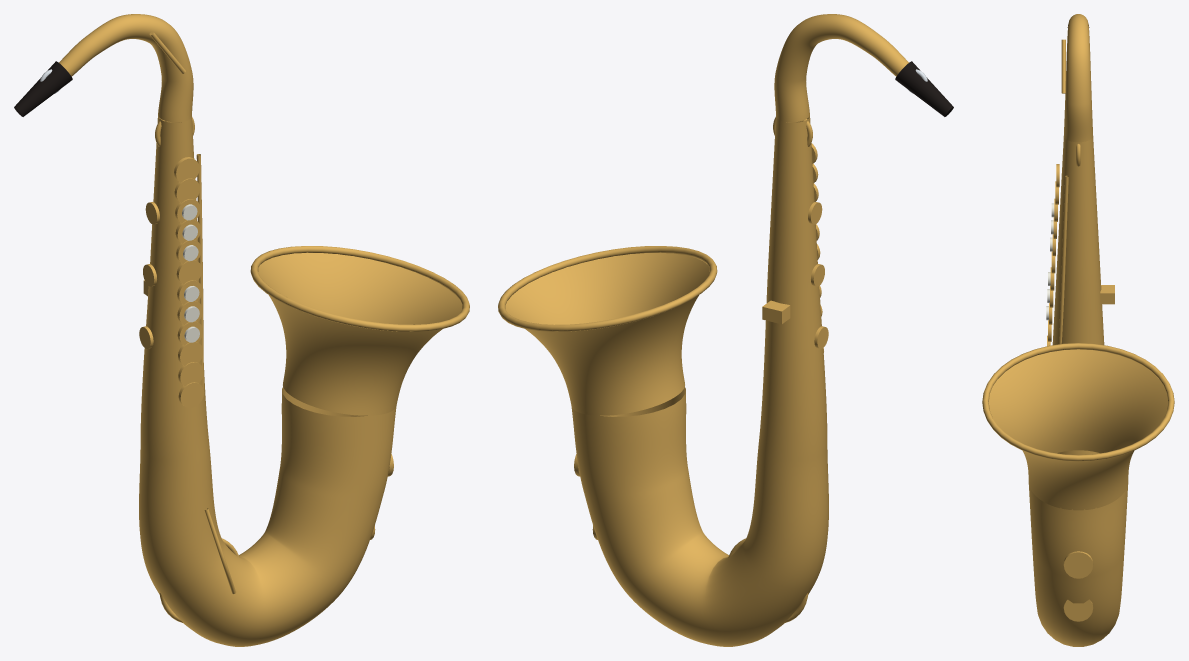
Rendered from sax-tenor.glb.
3 views of the same model, side by side, from view 1: azimuth 30°, elevation 25°; view 2: azimuth 150°, elevation 25°; view 3: azimuth 270°, elevation 25° (orthographic). The views are drawn at different scales.
Bounding box in the file's own units: 0.7147 × 1.02 × 0.3146.
